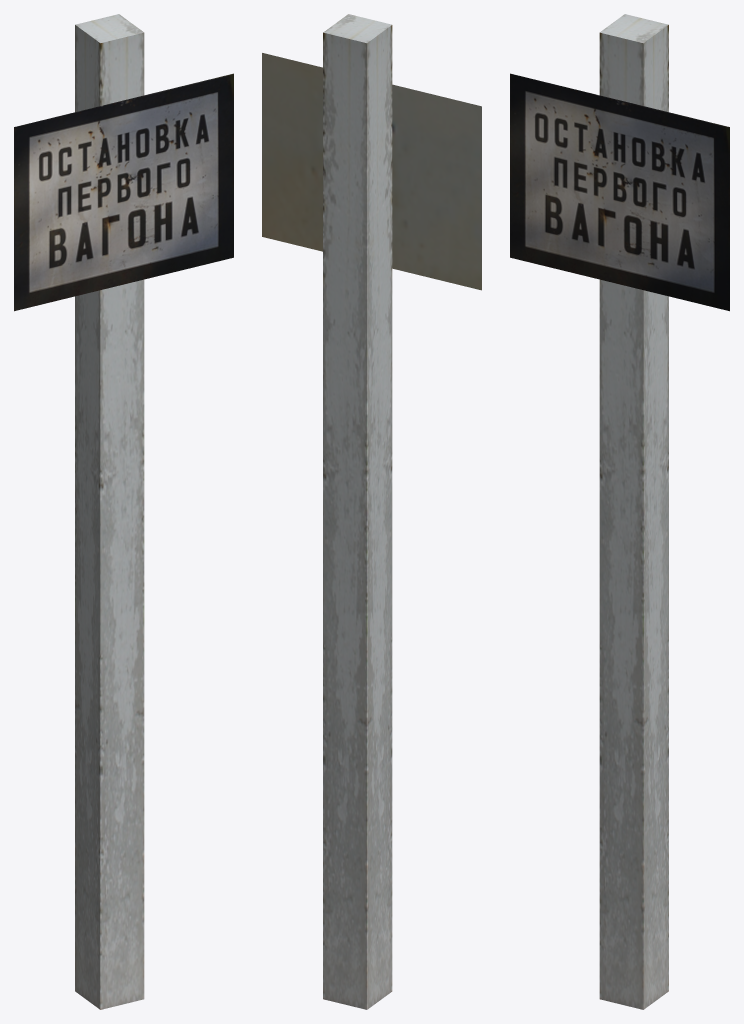
The model's file is Znak_OstVag.gltf.
The picture shows the model from 3 angles, left to right: view 1: azimuth 30°, elevation 25°; view 2: azimuth 150°, elevation 25°; view 3: azimuth 330°, elevation 25°; orthographic projection.
Bounding box in the file's own units: 0.5 × 2.1 × 0.106.
1 material, 1 textured.
